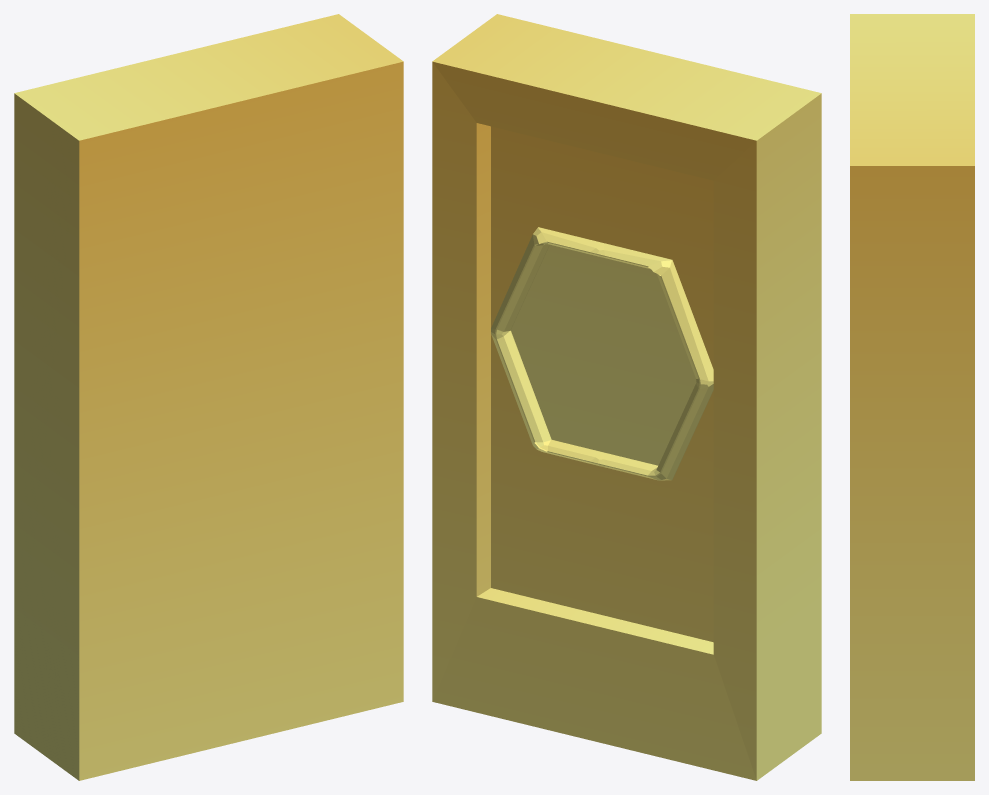
Rendered from muro_dec_stanza_piccola.fbx.
The picture shows the model from 3 angles, left to right: view 1: azimuth 30°, elevation 25°; view 2: azimuth 150°, elevation 25°; view 3: azimuth 270°, elevation 25°; orthographic projection. The views are drawn at different scales.
Visible parts, largest first — view 1: pareteGrande_mod01.028; view 2: pareteGrande_mod01.028; view 3: pareteGrande_mod01.028.
Boxes of the visible parts, bbox=[...] form: pareteGrande_mod01.028: bbox=[14, 14, 403, 780]; pareteGrande_mod01.028: bbox=[432, 14, 821, 780]; pareteGrande_mod01.028: bbox=[850, 14, 974, 780].
Size of the model in its own units: 2408 by 4538 by 835.
Materials: 1 (1 with a texture image).
